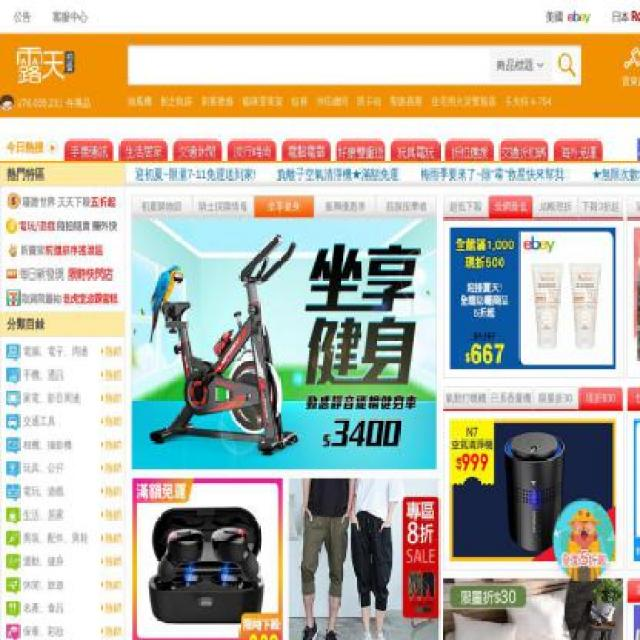button: (132, 218, 436, 470), (450, 419, 616, 561), (450, 228, 616, 369), (442, 578, 624, 639), (552, 498, 616, 582), (280, 138, 332, 165), (498, 138, 550, 165), (63, 138, 114, 165), (172, 138, 223, 165), (226, 138, 277, 165), (390, 138, 441, 165), (553, 138, 604, 165), (118, 138, 168, 165), (336, 138, 386, 165), (444, 138, 494, 165), (616, 44, 639, 102), (23, 344, 97, 358), (23, 368, 97, 382), (23, 392, 97, 406), (23, 414, 97, 428), (23, 438, 97, 452), (23, 462, 97, 476), (23, 484, 97, 498), (23, 508, 97, 522), (23, 532, 97, 546), (23, 554, 97, 568), (23, 578, 97, 592), (23, 602, 97, 616), (23, 624, 97, 638), (634, 420, 640, 562), (634, 228, 640, 369), (634, 606, 640, 640), (638, 138, 639, 160)
field: (138, 49, 484, 80), (496, 50, 546, 82), (558, 53, 576, 78)
